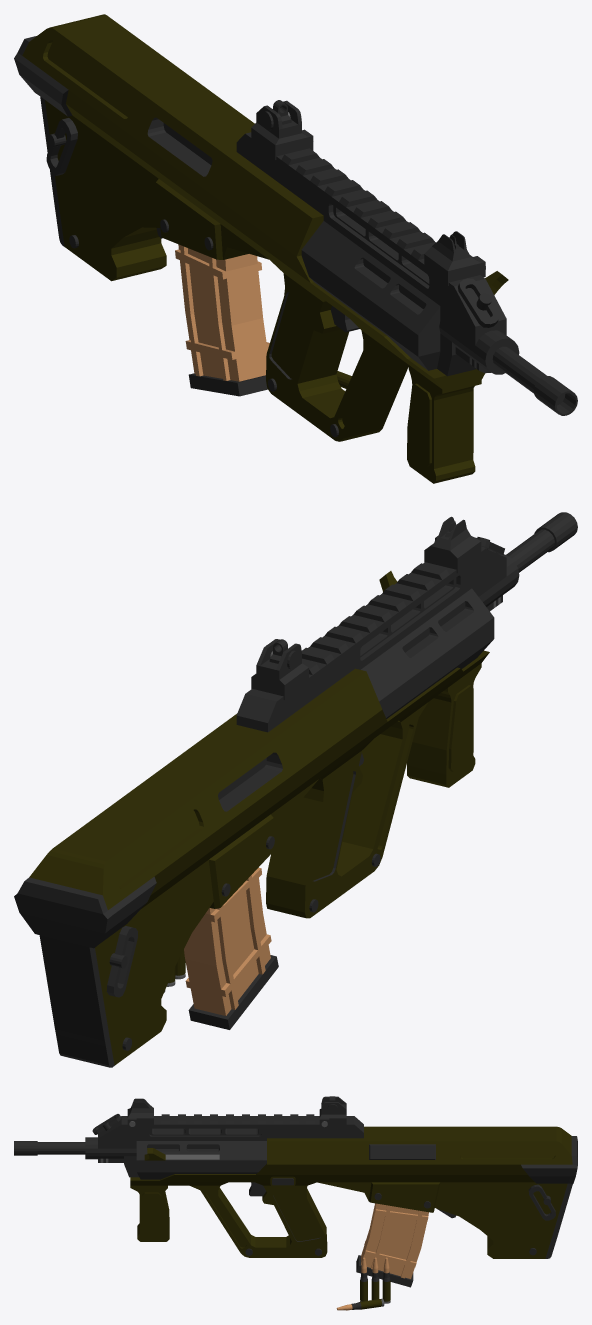
Rendered from aug-assault_rifle_original.glb.
The picture shows the model from 3 angles, top to bottom: view 1: azimuth 30°, elevation 25°; view 2: azimuth 150°, elevation 25°; view 3: azimuth 270°, elevation 25°; orthographic projection. The views are drawn at different scales.
Visible parts, largest first — view 1: AUG_Receiver, AUG_Barrel1, AUG_Mag1, AUG_Receiver_Grip, AUG_BackSight, AUG_FrontSight, AUG_Receiver.001; view 2: AUG_Receiver, AUG_Barrel1, AUG_Mag1, AUG_Receiver_Grip, AUG_BackSight, AUG_FrontSight; view 3: AUG_Receiver, AUG_Barrel1, AUG_Mag1, AUG_Receiver_Grip, AUG_Barrel1_Bolt, AUG_BackSight, AUG_FrontSight.
Part boxes in pixels (x1,y1,x2,y2): AUG_Receiver: (14, 14, 484, 441); AUG_Barrel1: (236, 132, 577, 415); AUG_Mag1: (175, 244, 269, 396); AUG_Receiver_Grip: (407, 365, 481, 483); AUG_BackSight: (251, 100, 313, 159); AUG_FrontSight: (424, 231, 485, 285); AUG_Receiver.001: (458, 278, 498, 327); AUG_Receiver: (14, 650, 489, 1067); AUG_Barrel1: (236, 512, 577, 732); AUG_Mag1: (184, 867, 278, 1029); AUG_Receiver_Grip: (407, 663, 481, 787); AUG_BackSight: (251, 639, 308, 699); AUG_FrontSight: (424, 516, 481, 573); AUG_Receiver: (130, 1126, 577, 1258); AUG_Barrel1: (14, 1114, 363, 1179); AUG_Mag1: (356, 1203, 428, 1287); AUG_Receiver_Grip: (130, 1185, 169, 1241); AUG_Barrel1_Bolt: (139, 1148, 262, 1160); AUG_BackSight: (319, 1096, 346, 1127); AUG_FrontSight: (127, 1098, 153, 1127).
Size of the model in its own units: 0.00176 by 0.00347 by 0.00958.
1 material, 1 textured.
